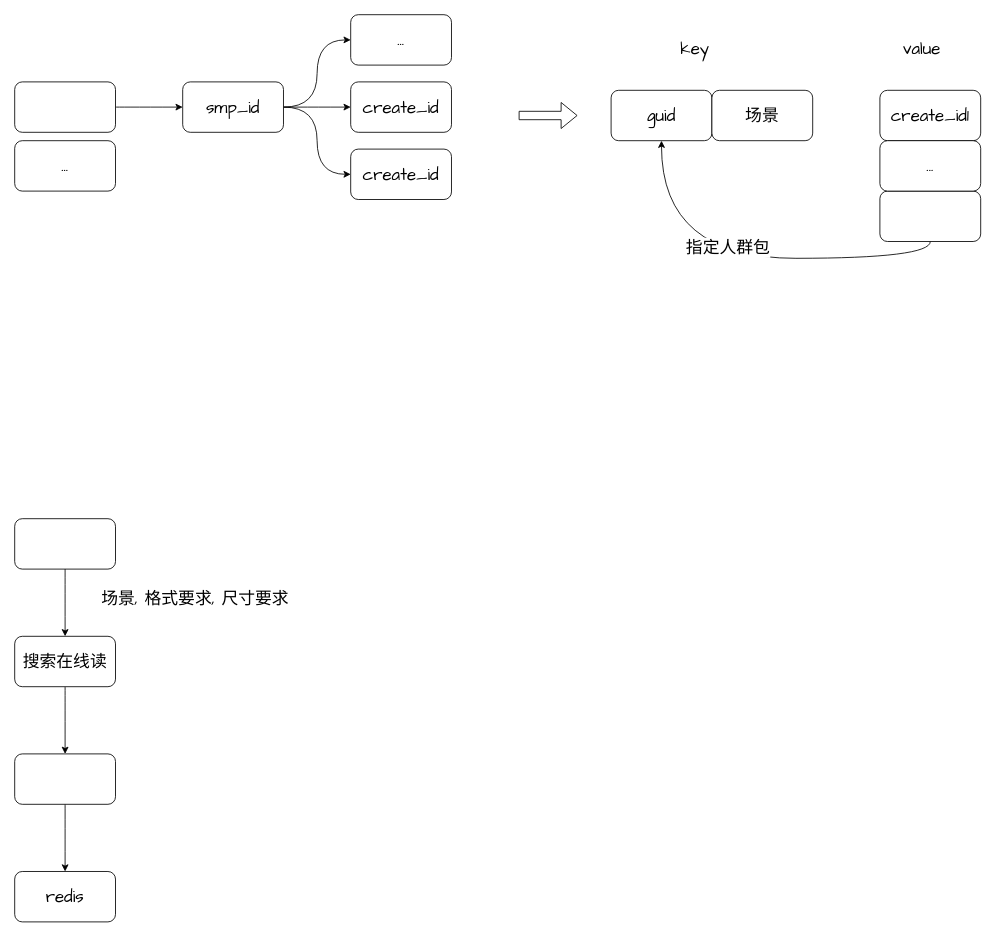
Some shapes in this 995 by 937 pixel diagram are drawn without their labels. The centre of each missing label's shape, as x and y in pixels:
"create_idN" goes at pixel 930 216.
"DSP" goes at pixel 65 543.
"id" goes at pixel 65 106.
"根据场景拼key" goes at pixel 65 778.
